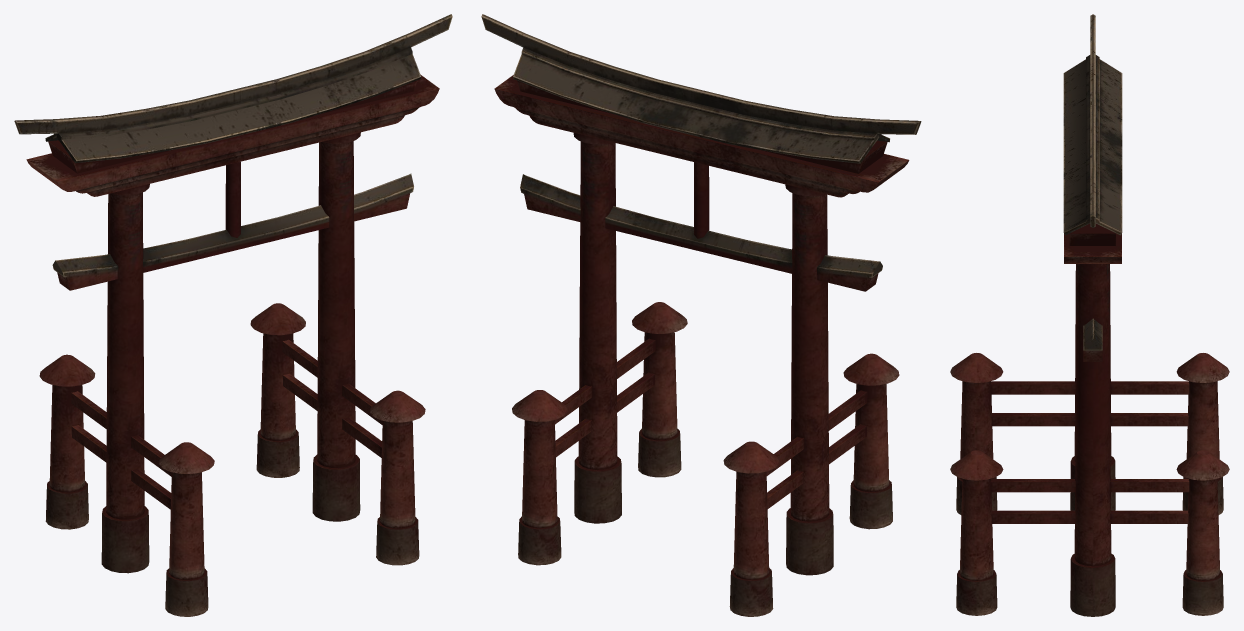
File: torii-gate.glb
3 views of the same model, side by side, from view 1: azimuth 30°, elevation 25°; view 2: azimuth 150°, elevation 25°; view 3: azimuth 270°, elevation 25° (orthographic). The views are drawn at different scales.
Parts seen in each view (by area): view 1: Object_2; view 2: Object_2; view 3: Object_2.
Part boxes in pixels (x1,y1,x2,y2): Object_2: [14, 14, 452, 616]; Object_2: [481, 14, 921, 616]; Object_2: [950, 14, 1229, 616].
Bounding box in the file's own units: 3.23 × 3.32 × 1.89.
Materials: 1 (1 with a texture image).
